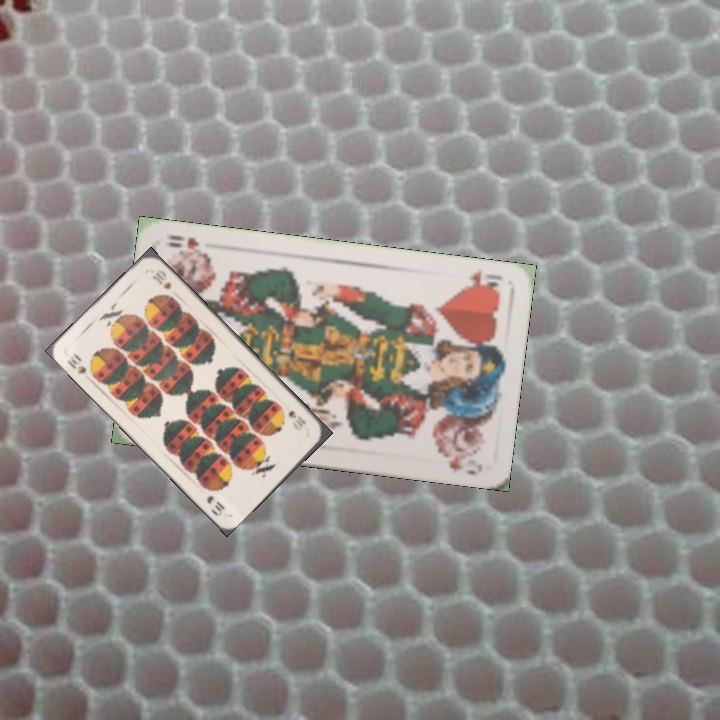HO: (457, 265, 504, 295)
S10: (63, 349, 89, 377), (284, 406, 309, 430)
